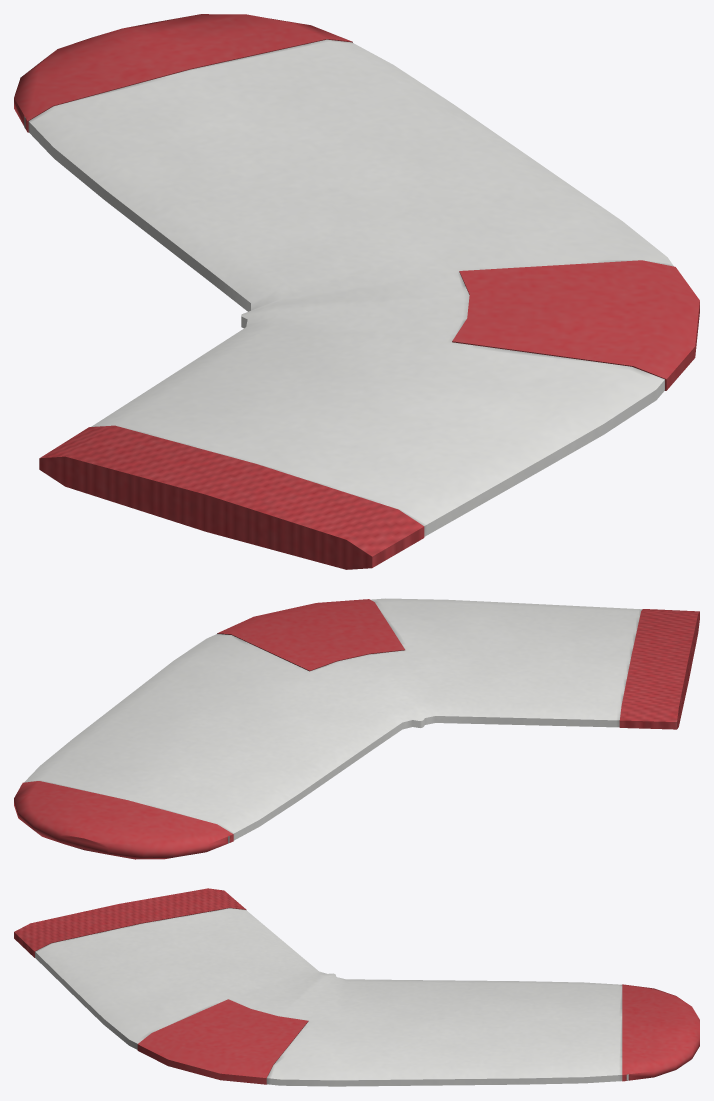
Rendered from sock.glb.
3 views of the same model, one above another, from view 1: azimuth 30°, elevation 25°; view 2: azimuth 150°, elevation 25°; view 3: azimuth 270°, elevation 25° (orthographic). The views are drawn at different scales.
Visible parts, largest first — view 1: x6_sock; view 2: x6_sock; view 3: x6_sock.
Boxes of the visible parts, x1,y1,x2,y2 form: x6_sock: (14,14,699,569); x6_sock: (14,598,699,859); x6_sock: (14,888,699,1086).
Bounding box in the file's own units: 0.0922 × 0.00481 × 0.1408.
Materials: 1 (1 with a texture image).
